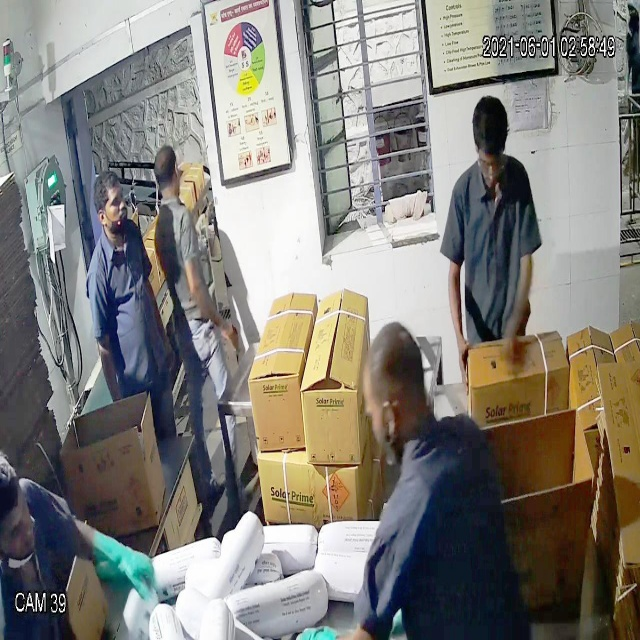Gafas: (471, 144, 508, 186)
